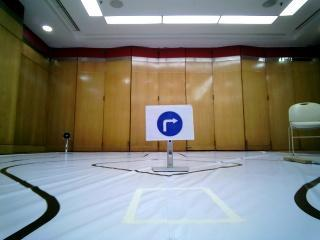right: (147, 108, 196, 138)
